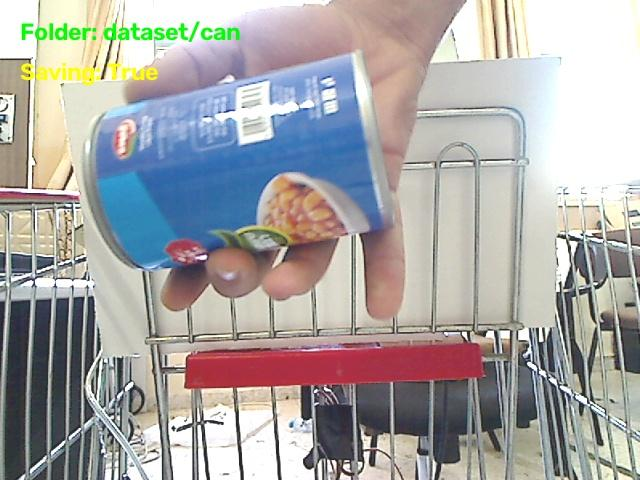can: (83, 52, 390, 269)
